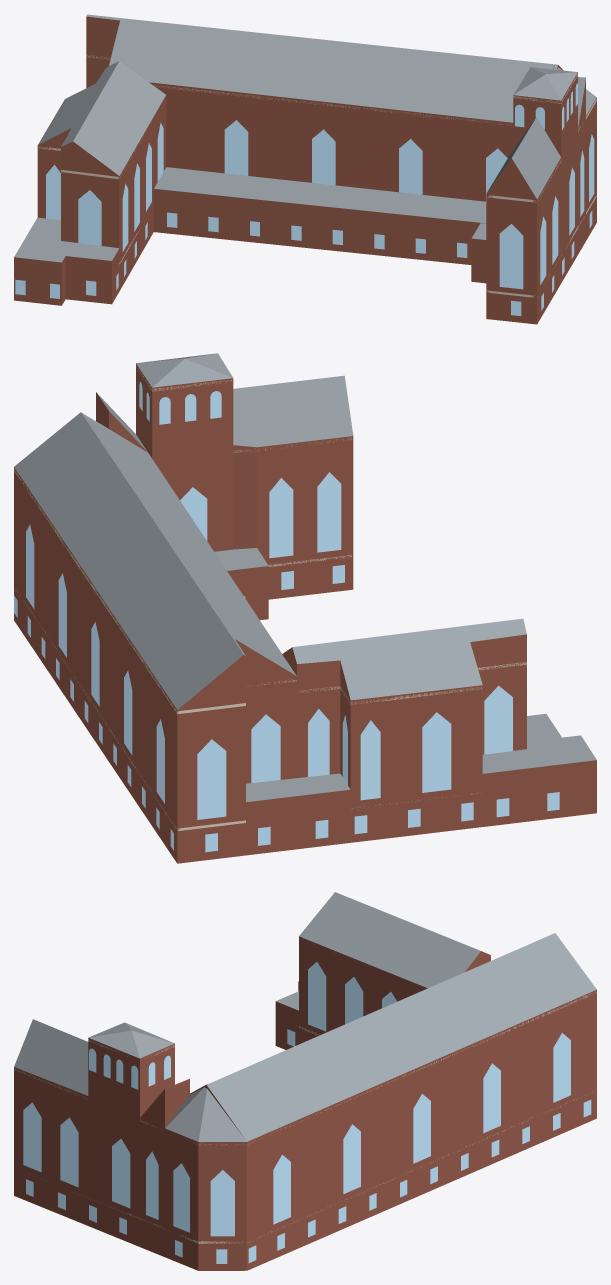
The picture shows the model from 3 angles, top to bottom: view 1: azimuth 30°, elevation 25°; view 2: azimuth 150°, elevation 25°; view 3: azimuth 270°, elevation 25°; orthographic projection. The views are drawn at different scales.
Parts seen in each view (by area): view 1: terracotta, roof, window, trim; view 2: terracotta, roof, window, trim; view 3: terracotta, roof, window, trim.
Boxes of the visible parts, x1,y1,x2,y2 form: terracotta: (14, 16, 596, 324); roof: (14, 14, 596, 262); window: (15, 83, 594, 315); trim: (37, 55, 596, 297); terracotta: (14, 364, 596, 863); roof: (14, 353, 596, 802); window: (14, 382, 559, 852); trim: (14, 365, 526, 830); terracotta: (14, 936, 596, 1270); roof: (14, 892, 596, 1141); window: (23, 962, 591, 1263); trim: (14, 937, 596, 1243).
Size of the model in its own units: 56.27 by 20 by 53.28.
